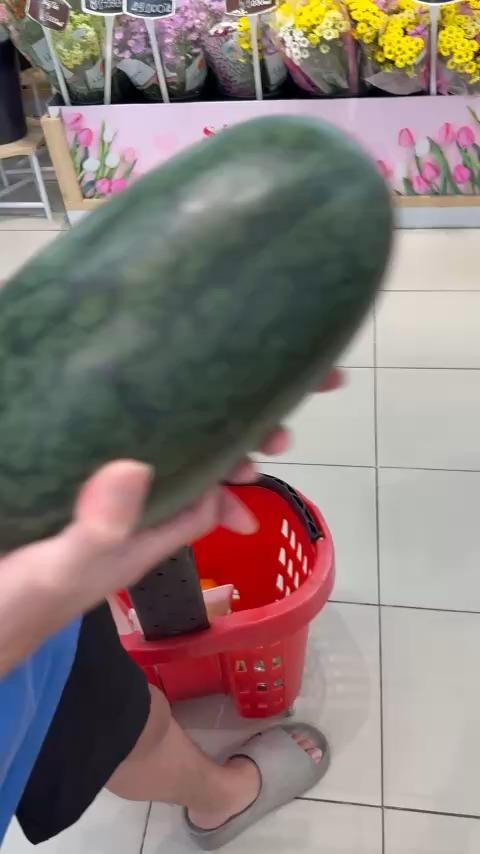watermelon: (0, 110, 416, 538)
